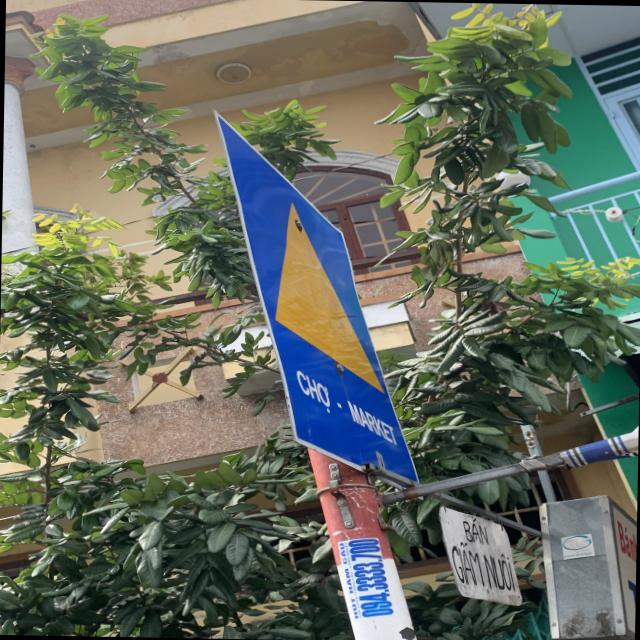Cho_Quay_Xe: (209, 118, 422, 474)
